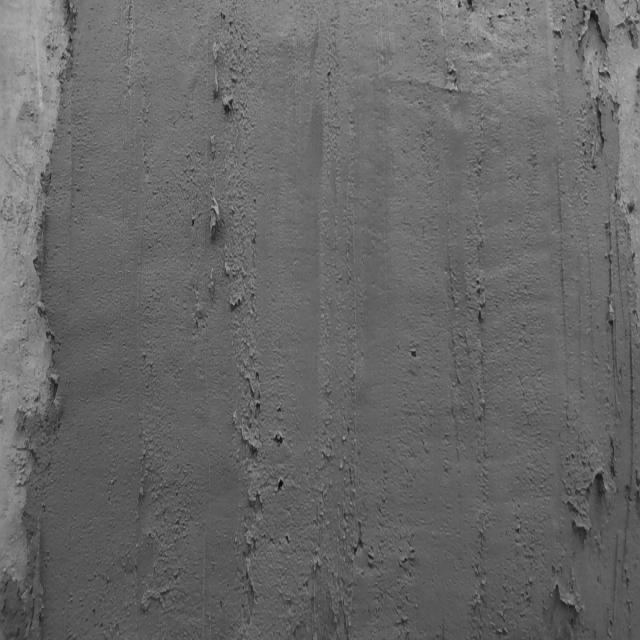trowels marks: (464, 109, 493, 640), (232, 264, 268, 636), (131, 66, 154, 640), (124, 1, 136, 119)
